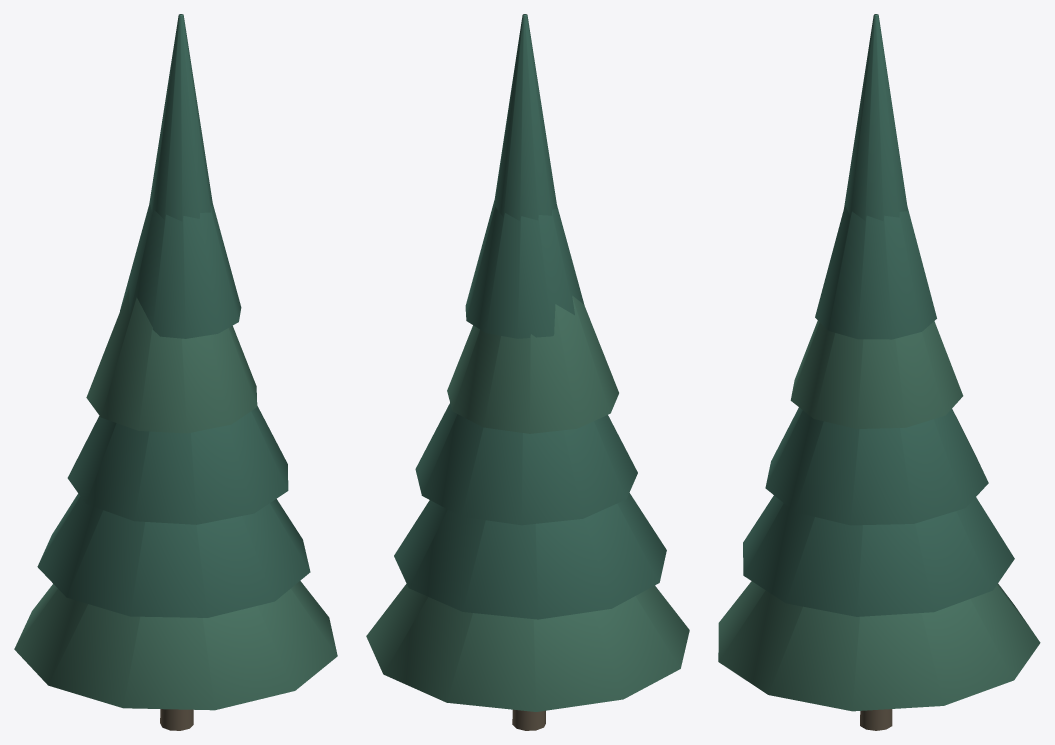
Rendered from spruce_tree_variant_03.glb.
The picture shows the model from 3 angles, left to right: view 1: azimuth 30°, elevation 25°; view 2: azimuth 150°, elevation 25°; view 3: azimuth 270°, elevation 25°; orthographic projection.
Visible parts, largest first — view 1: static_leaf_pine, static_leaf_pine_light, trunk; view 2: static_leaf_pine, static_leaf_pine_light, trunk; view 3: static_leaf_pine, static_leaf_pine_light, trunk.
Part boxes in pixels (left/top/right/bottom): static_leaf_pine: left=37, top=14, right=310, bottom=617; static_leaf_pine_light: left=14, top=288, right=337, bottom=710; trunk: left=160, top=709, right=193, bottom=730; static_leaf_pine: left=394, top=14, right=666, bottom=619; static_leaf_pine_light: left=366, top=295, right=689, bottom=711; trunk: left=512, top=709, right=545, bottom=730; static_leaf_pine: left=743, top=14, right=1014, bottom=616; static_leaf_pine_light: left=718, top=320, right=1040, bottom=711; trunk: left=860, top=709, right=892, bottom=730.
Size of the model in its own units: 3.82 by 9.2 by 3.78.
